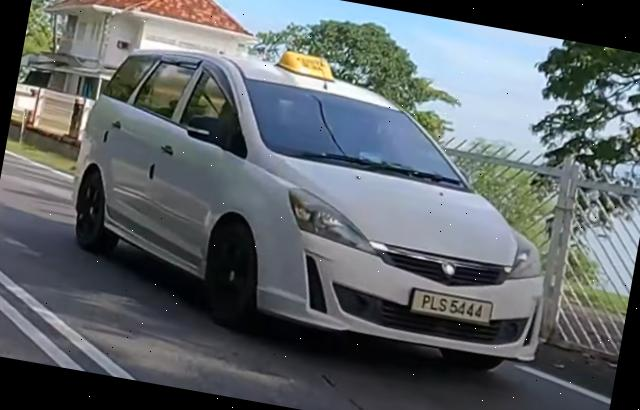License_Plate: (409, 287, 495, 327)
car: (52, 17, 582, 384)
